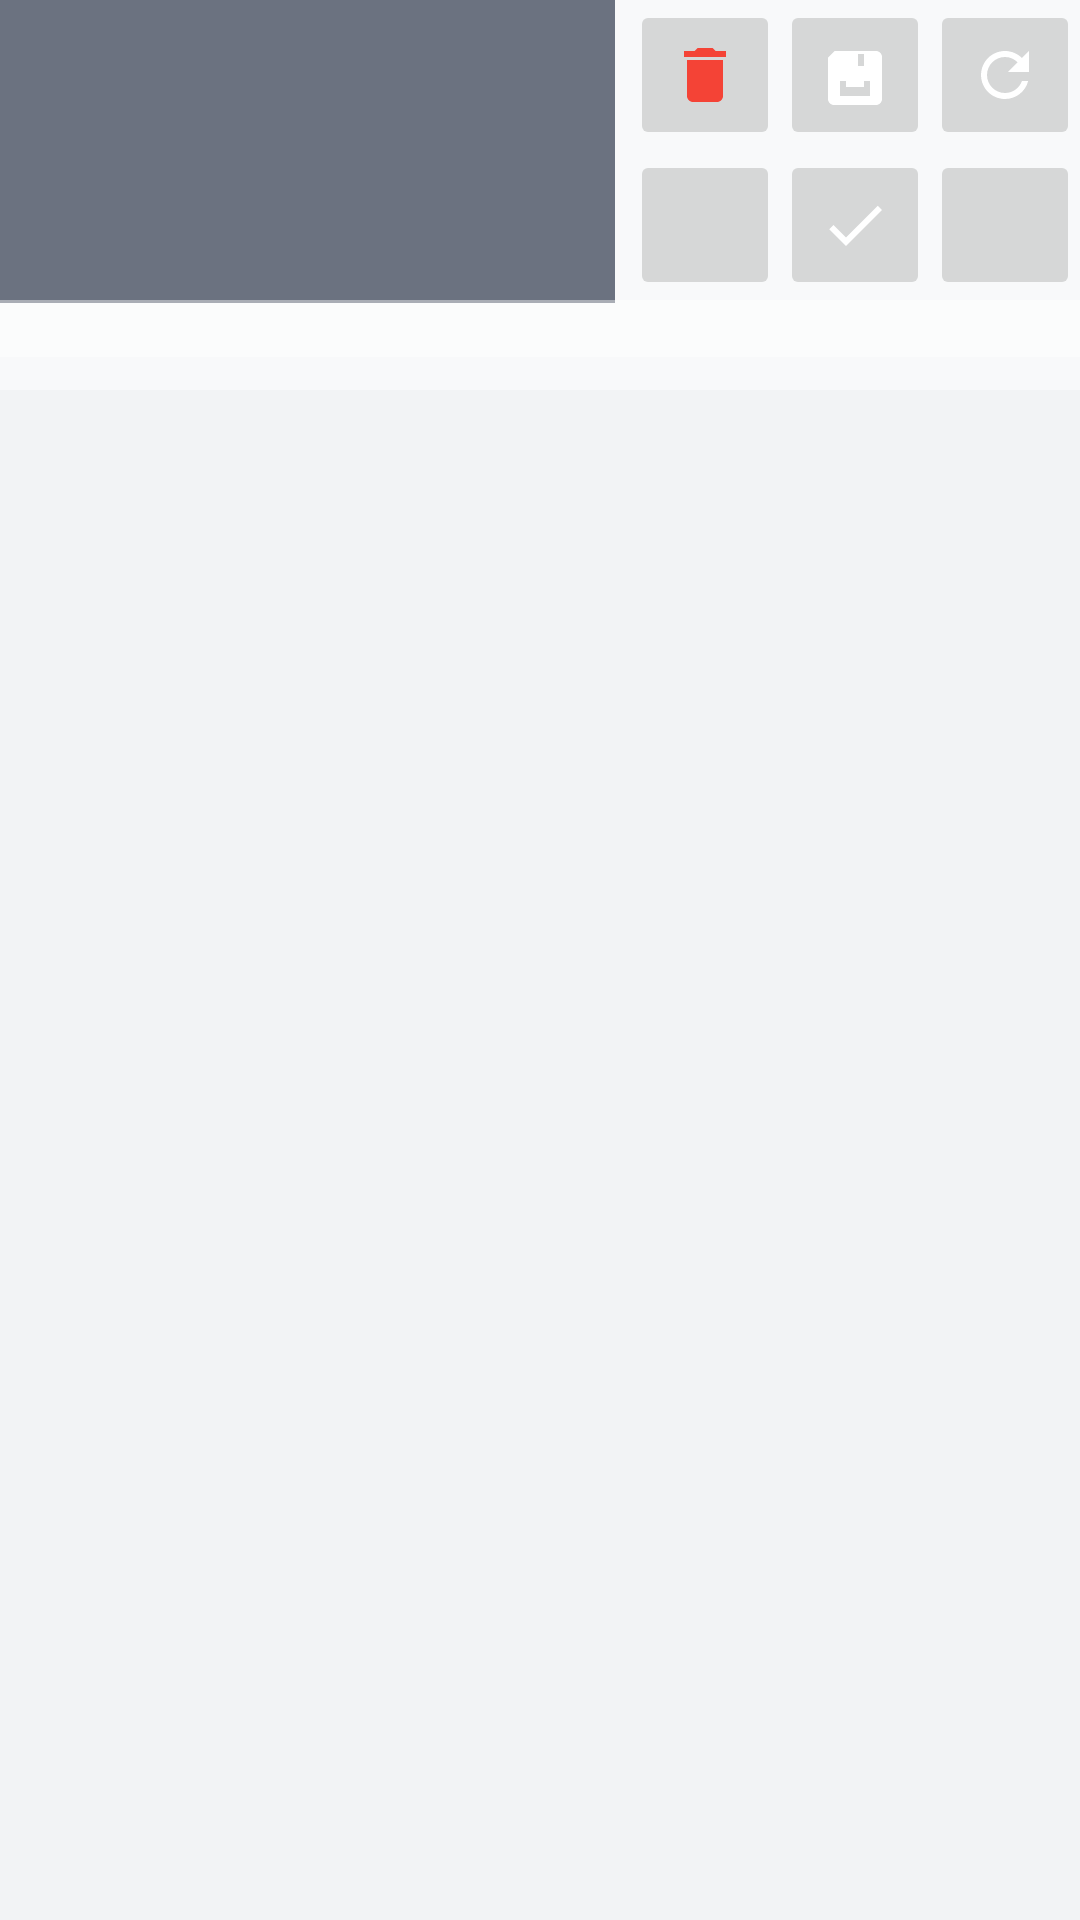

Icons on this 1080 × 1920 Android screen, each with its box as box=[x1, y1, x2, y2]:
Remove Key Mapper: box=[642, 18, 768, 132]
restart: box=[942, 18, 1068, 132]
Use Key Mapper: box=[792, 168, 918, 282]
